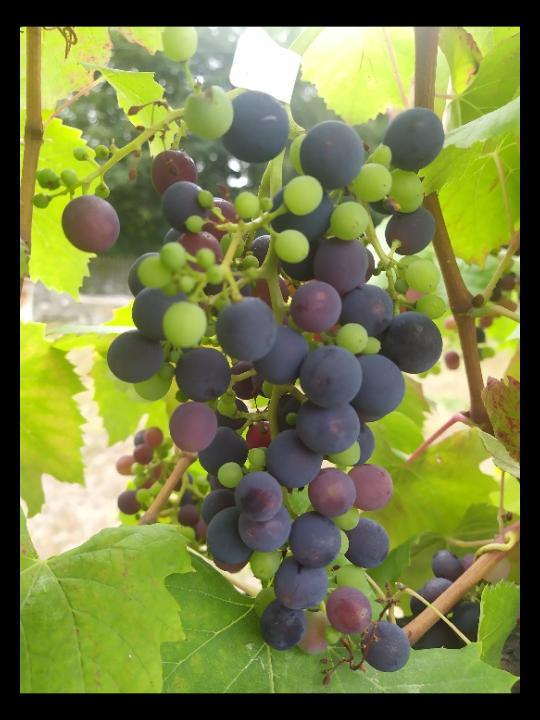grape: (32, 33, 444, 686)
